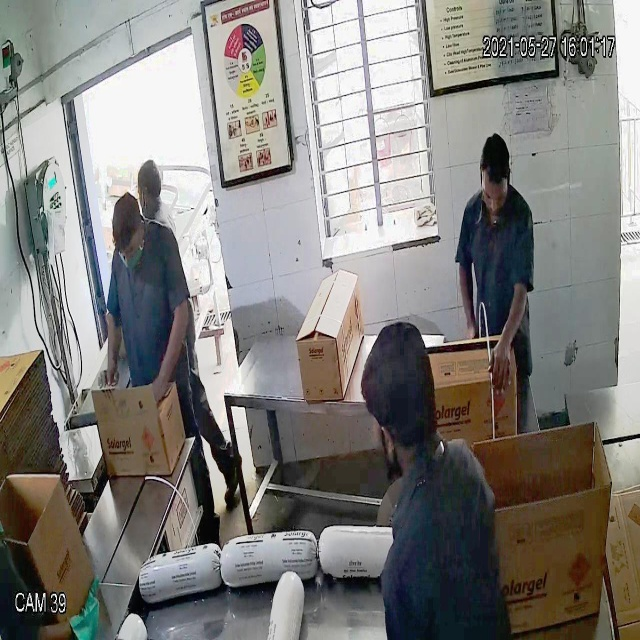Sin_gafas: (477, 180, 514, 211)
